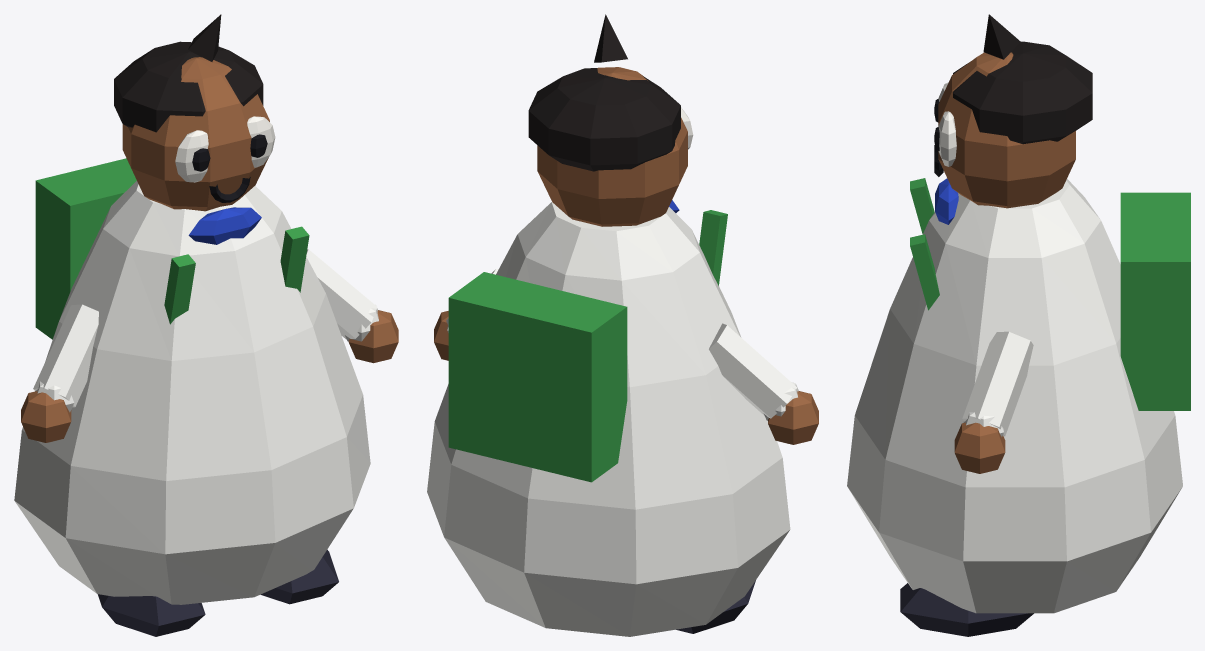
The model's file is npc_alumno_b.glb.
The picture shows the model from 3 angles, left to right: view 1: azimuth 30°, elevation 25°; view 2: azimuth 150°, elevation 25°; view 3: azimuth 270°, elevation 25°; orthographic projection.
Visible parts, largest first — view 1: body_school_smock, body_bag_green, head_skin_cacao, head_hair_black, arms_school_smock, legs_school_shoes, arms_skin_cacao, face_white, body_smock_bow, face_black; view 2: body_school_smock, body_bag_green, head_hair_black, head_skin_cacao, arms_school_smock, arms_skin_cacao, legs_school_shoes; view 3: body_school_smock, body_bag_green, head_hair_black, head_skin_cacao, arms_school_smock, legs_school_shoes, arms_skin_cacao, face_white, body_smock_bow.
Part boxes in pixels (<box>): body_school_smock: <box>14,181,370,604</box>; body_bag_green: <box>35,158,309,339</box>; head_skin_cacao: <box>122,57,269,211</box>; head_hair_black: <box>114,14,263,132</box>; arms_school_smock: <box>33,249,378,412</box>; legs_school_shoes: <box>97,549,338,636</box>; arms_skin_cacao: <box>21,310,398,442</box>; face_white: <box>175,116,275,182</box>; body_smock_bow: <box>188,207,261,244</box>; face_black: <box>192,134,267,202</box>; body_school_smock: <box>427,202,790,636</box>; body_bag_green: <box>448,210,727,482</box>; head_hair_black: <box>528,14,680,171</box>; head_skin_cacao: <box>537,67,687,226</box>; arms_school_smock: <box>446,269,798,420</box>; arms_skin_cacao: <box>434,311,818,444</box>; legs_school_shoes: <box>676,580,755,633</box>; body_school_smock: <box>847,179,1182,613</box>; body_bag_green: <box>910,178,1190,410</box>; head_hair_black: <box>953,14,1092,144</box>; head_skin_cacao: <box>938,52,1075,208</box>; arms_school_smock: <box>962,331,1033,436</box>; legs_school_shoes: <box>900,583,1033,636</box>; arms_skin_cacao: <box>954,422,1005,473</box>; face_white: <box>938,82,956,166</box>; body_smock_bow: <box>935,178,958,224</box>.
Bounding box in the file's own units: 1.13 × 1.66 × 0.88.
